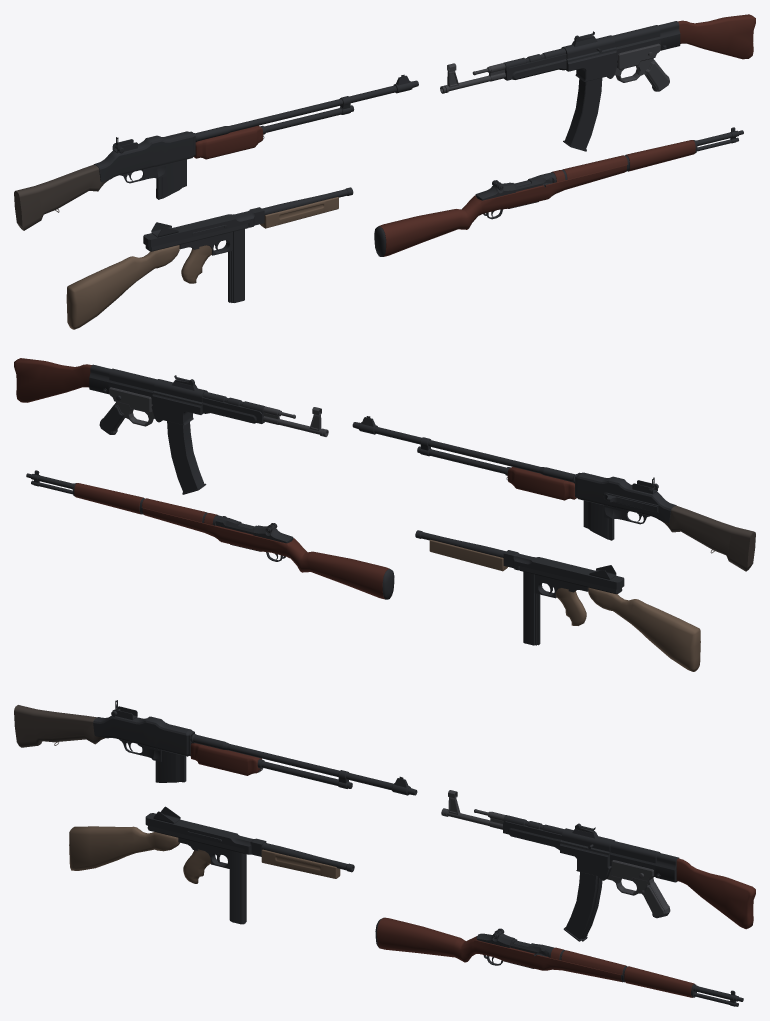
The model's file is armas_ww2.obj.
3 renders of one model, top to bottom at view 1: azimuth 30°, elevation 25°; view 2: azimuth 150°, elevation 25°; view 3: azimuth 330°, elevation 25°, orthographic.
Parts seen in each view (by area): view 1: mp44, bar, thompson, m1garand; view 2: mp44, bar, thompson, m1garand; view 3: mp44, bar, thompson, m1garand.
Part boxes in pixels (x1,y1,x2,y2): mp44: (440,14,755,151); bar: (14,74,418,230); thompson: (66,187,353,329); m1garand: (374,127,743,256); mp44: (14,358,328,494); bar: (352,416,755,571); thompson: (415,530,700,671); m1garand: (26,470,394,599); mp44: (441,790,755,941); bar: (14,700,417,795); thompson: (69,806,354,924); m1garand: (375,917,743,1006).
Bounding box in the file's own units: 2.23 × 0.5616 × 0.0616.
1 material, 1 textured.
